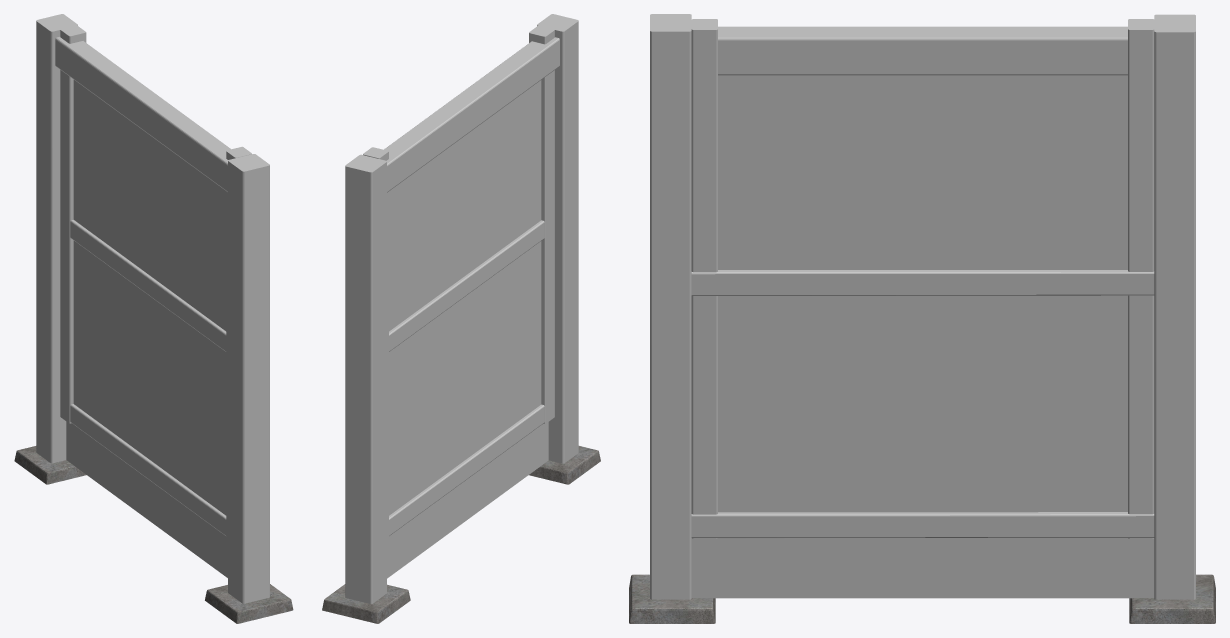
The model's file is SM_Building_Wall_11.FBX.
3 renders of one model, left to right at view 1: azimuth 30°, elevation 25°; view 2: azimuth 150°, elevation 25°; view 3: azimuth 270°, elevation 25°, orthographic. The views are drawn at different scales.
Visible parts, largest first — view 1: SM_Building_Wall_11; view 2: SM_Building_Wall_11; view 3: SM_Building_Wall_11.
Part boxes in pixels (<box>): SM_Building_Wall_11: <box>14,14,293,623</box>; SM_Building_Wall_11: <box>322,14,600,623</box>; SM_Building_Wall_11: <box>629,14,1215,623</box>.
Bounding box in the file's own units: 67.32 × 501 × 457.
